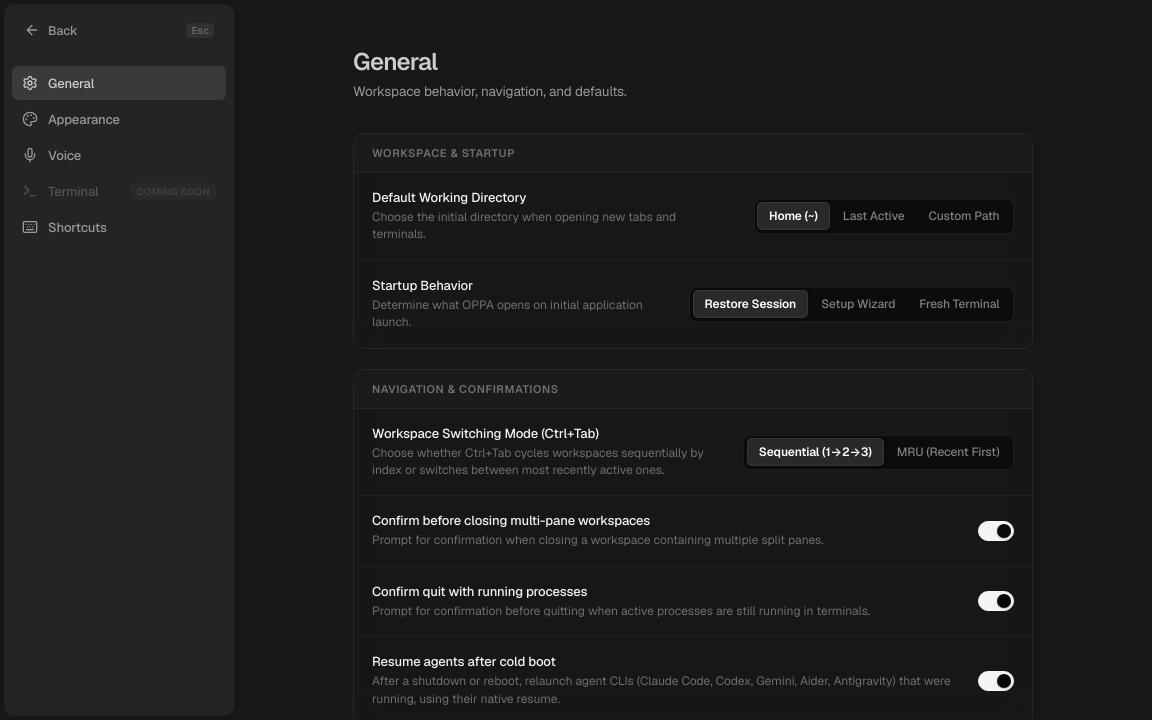
SettingsView › navigates between categories using sidebar buttons
Click the button "Appearance" at point(119, 119), box [12,102,226,136]
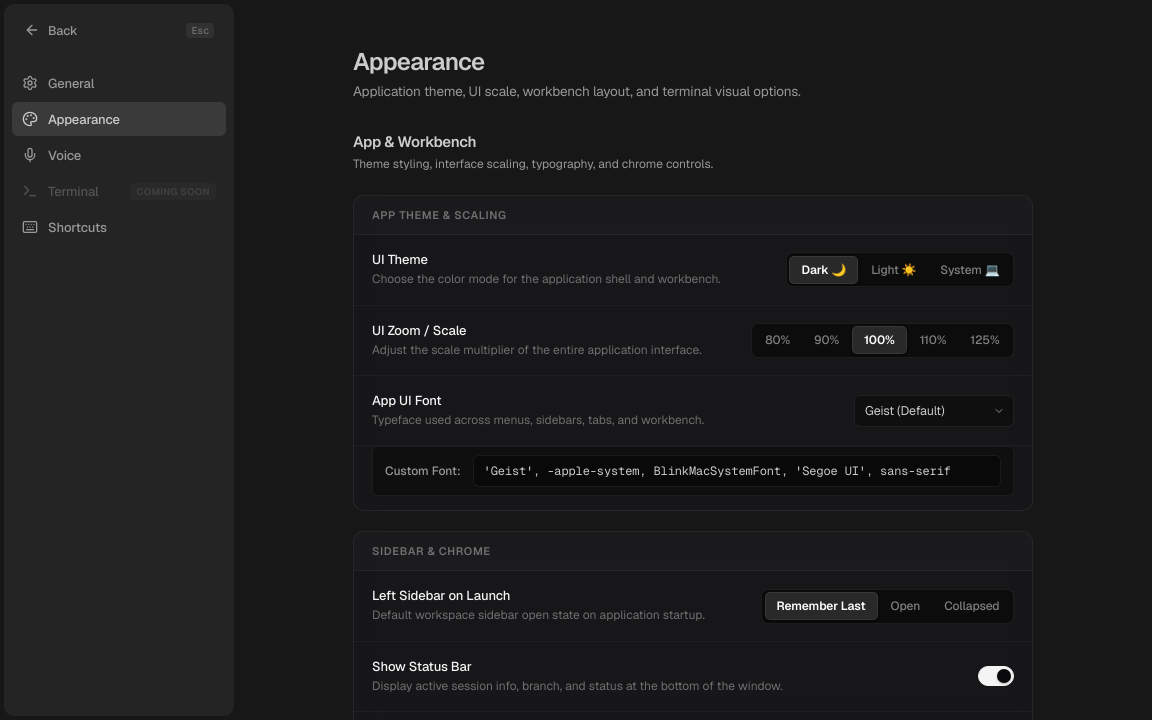
Check: the element named "appearance settings" is shown
Click the button "Shortcuts" at point(119, 227), box [12,210,226,244]
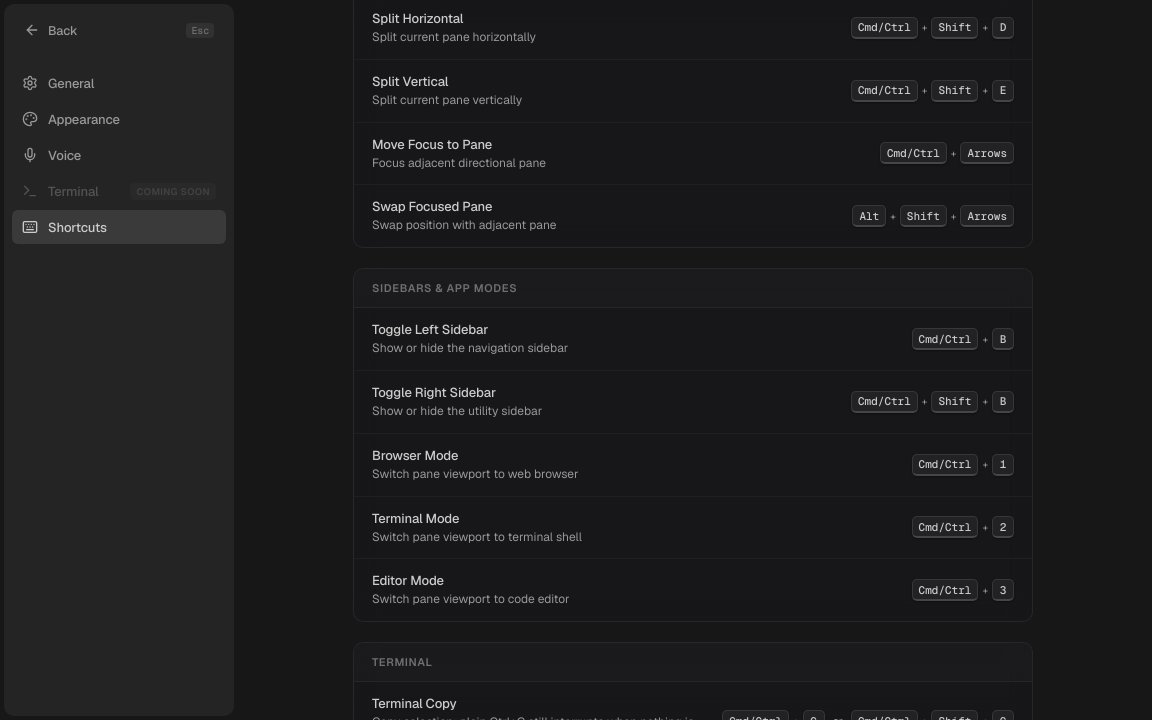
Check: the element "Keyboard Shortcuts" is shown
Click the button "Voice" at point(119, 155), box [12,138,226,172]
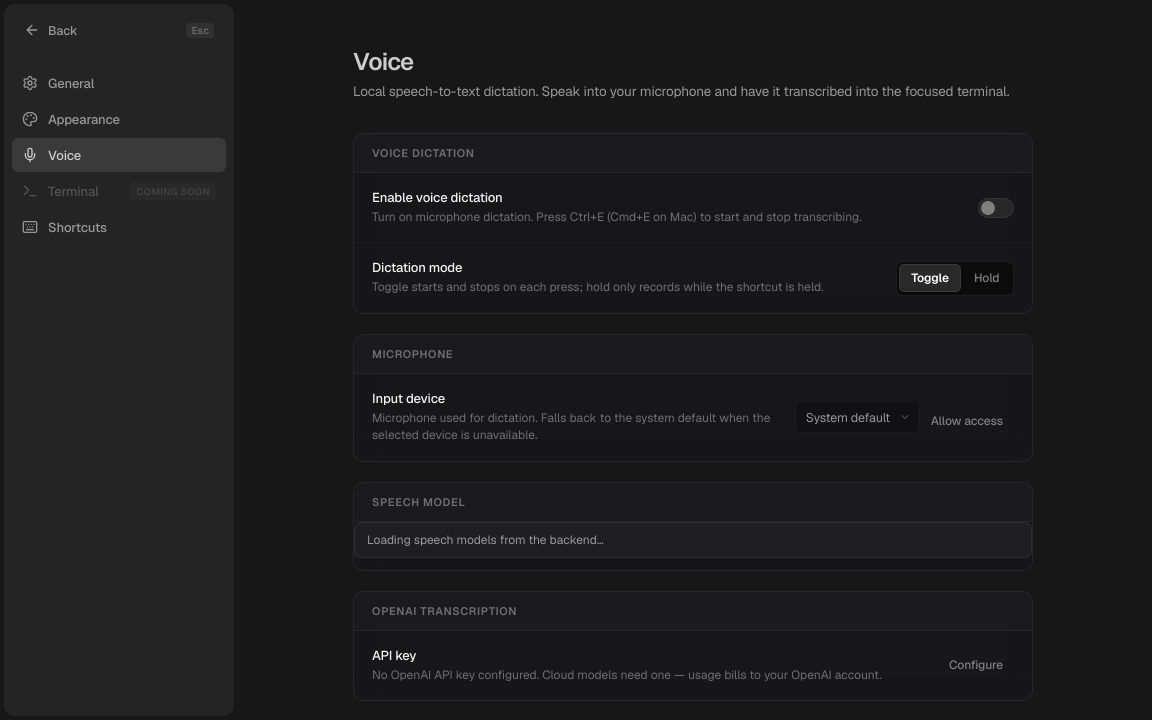
Check: the element named "voice settings" is shown
Click the button "General" at point(119, 83), box [12,66,226,100]
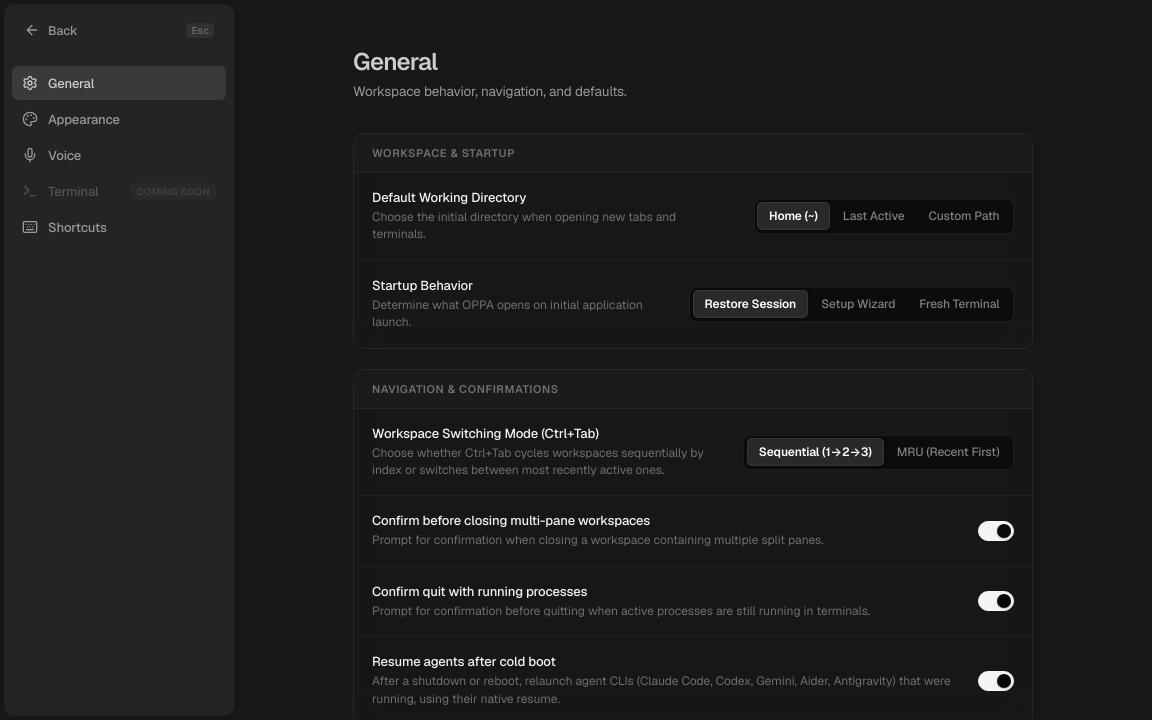
Check: the element named "general settings" is shown
